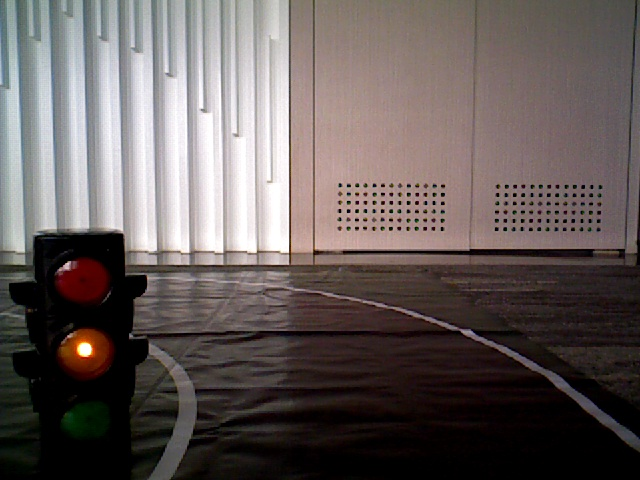yellow: (38, 237, 124, 450)
